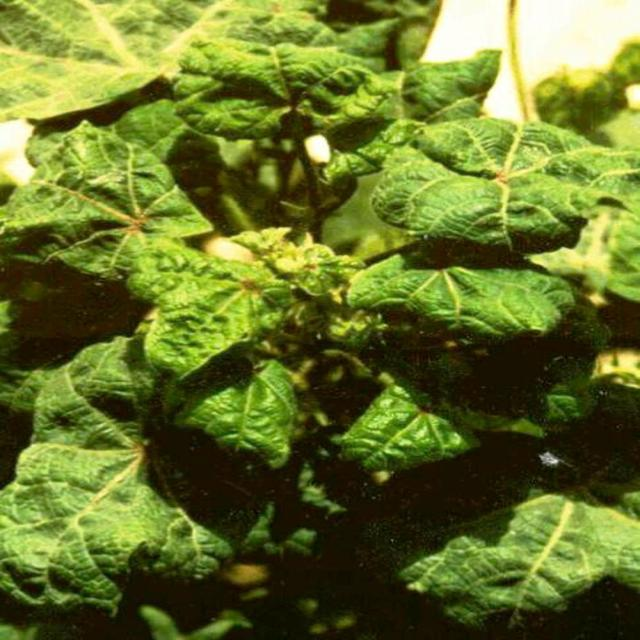Leaf Curl Virus: (68, 16, 582, 496)
